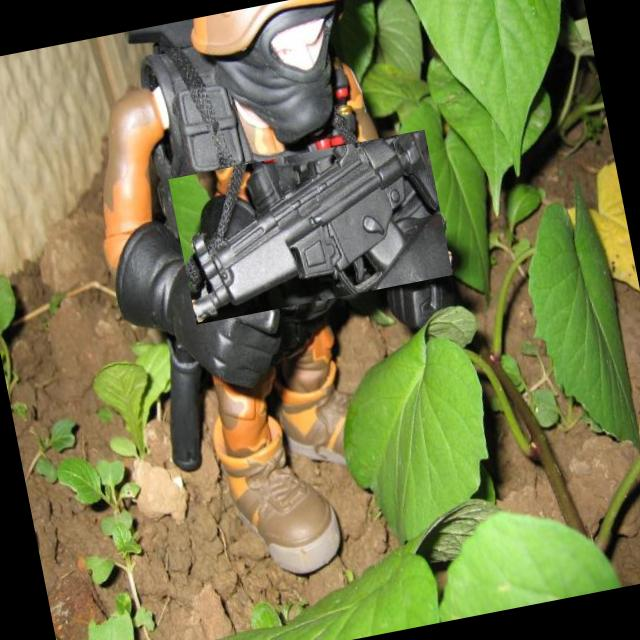Gun: (193, 137, 438, 322)
